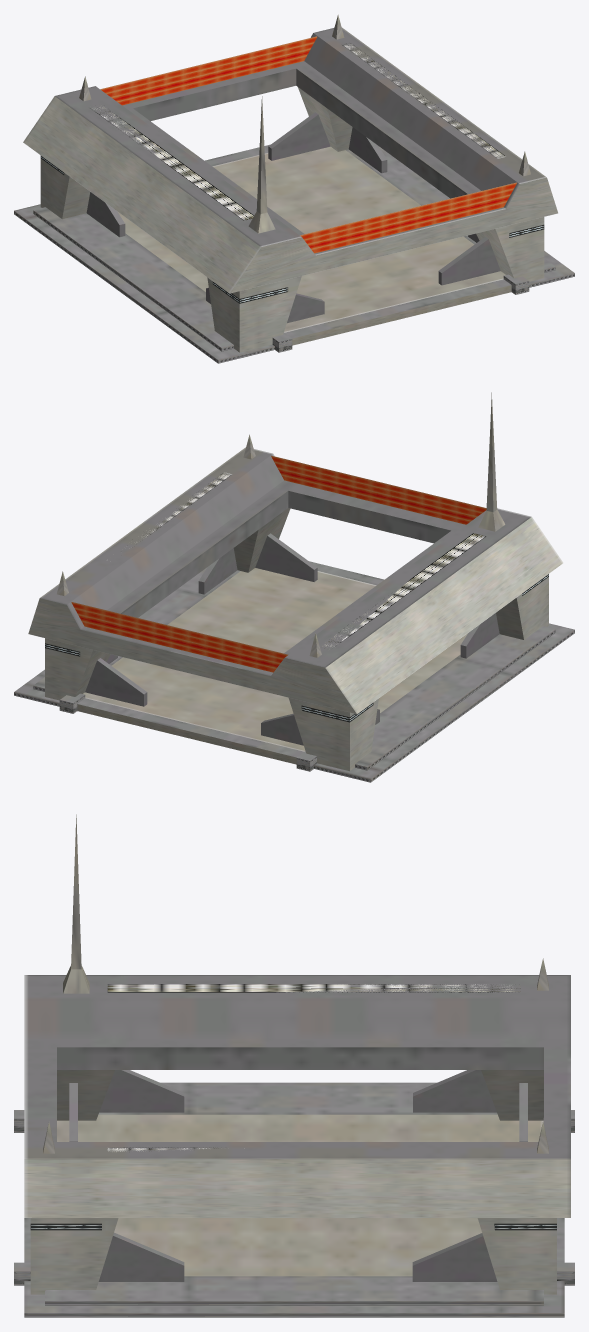
The model's file is mun_all_shuttleport_s01_l3.fbx.
3 renders of one model, top to bottom at view 1: azimuth 30°, elevation 25°; view 2: azimuth 150°, elevation 25°; view 3: azimuth 270°, elevation 25°, orthographic. The views are drawn at different scales.
Visible parts, largest first — view 1: mesh_node; view 2: mesh_node; view 3: mesh_node.
Boxes of the visible parts, <box> form: mesh_node: <box>14,14,574,363</box>; mesh_node: <box>14,392,574,782</box>; mesh_node: <box>14,814,574,1317</box>.
Bounding box in the file's own units: 31.47 × 20.21 × 32.4.
